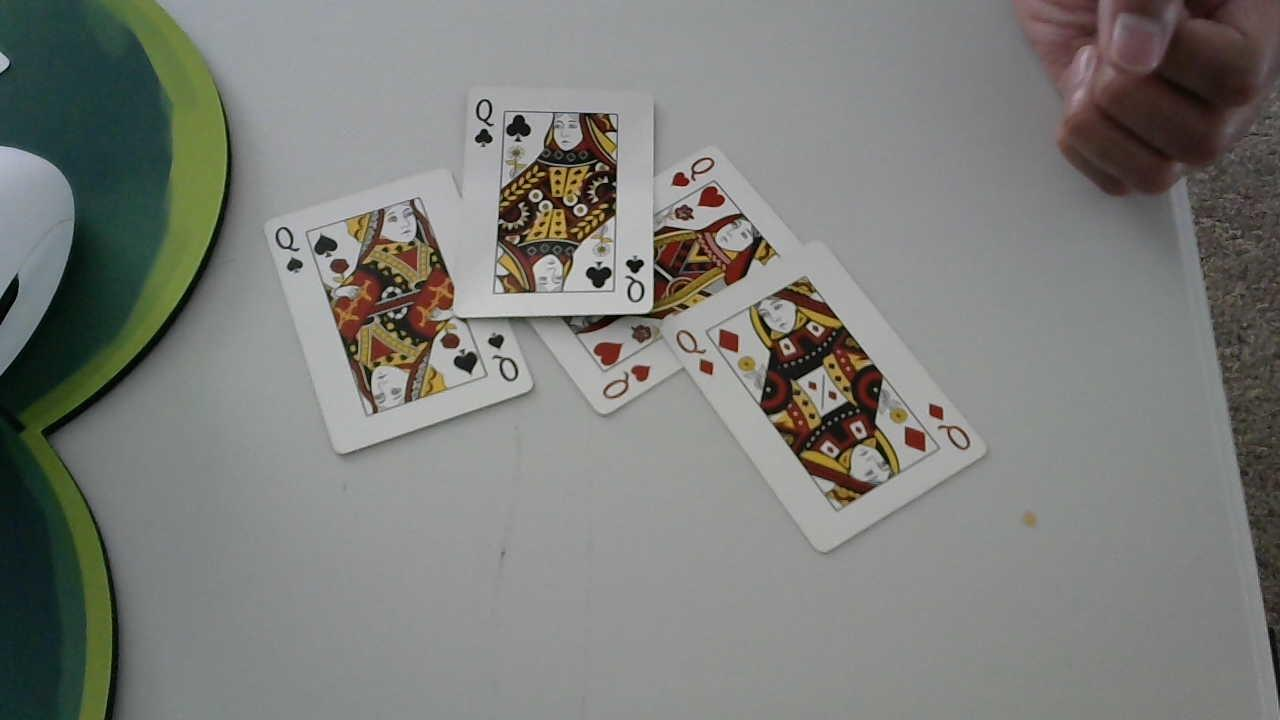QC: (622, 252, 651, 307), (470, 92, 496, 150)
QD: (924, 401, 974, 456), (674, 326, 719, 381)
QH: (600, 359, 653, 404), (667, 151, 717, 191)
QS: (482, 329, 520, 383), (272, 224, 307, 279)
